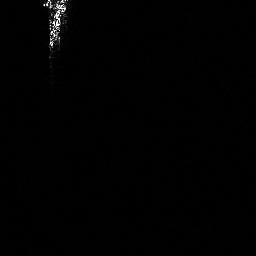ship: (34, 1, 71, 53)
